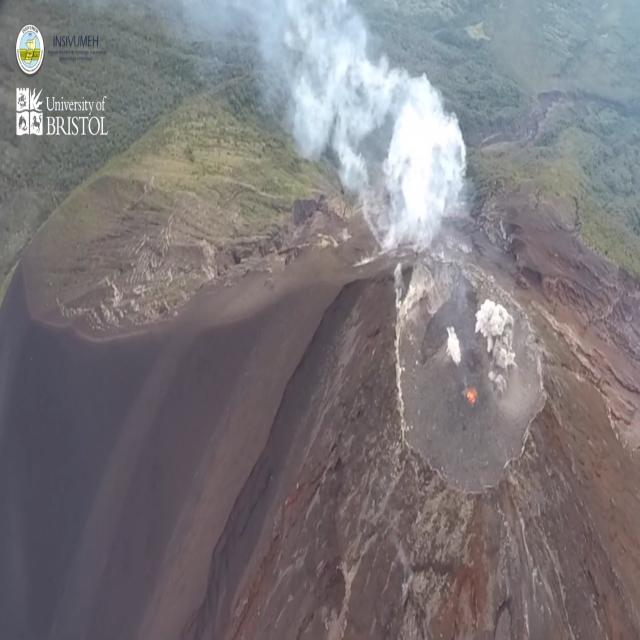Plume: (172, 0, 482, 253)
Summit: (364, 250, 580, 520)
